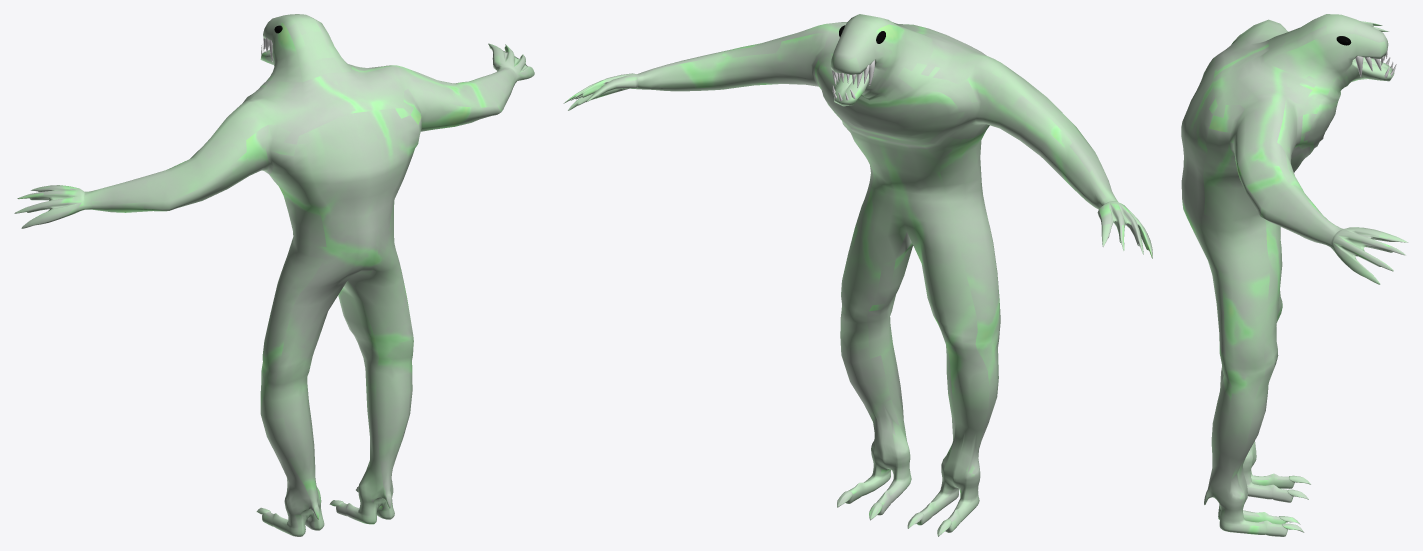
File: Berserkeraranar.0019.obj
3 views of the same model, side by side, from view 1: azimuth 30°, elevation 25°; view 2: azimuth 150°, elevation 25°; view 3: azimuth 270°, elevation 25° (orthographic). The views are drawn at different scales.
Parts seen in each view (by area): view 1: polySurface27; view 2: polySurface27; view 3: polySurface27.
Boxes of the visible parts, bbox=[...] form: polySurface27: bbox=[14, 14, 534, 536]; polySurface27: bbox=[563, 14, 1152, 536]; polySurface27: bbox=[1181, 14, 1407, 536].
Bounding box in the file's own units: 27.44 × 23.98 × 9.85.
Materials: 1 (1 with a texture image).
